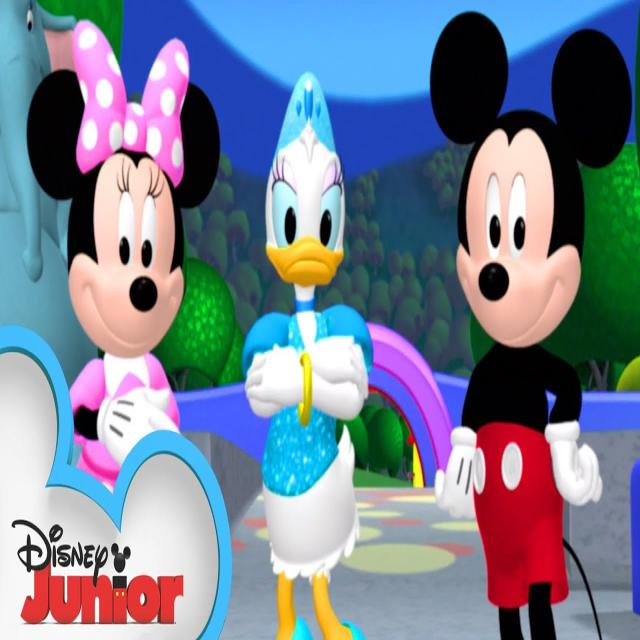mickey: (421, 5, 640, 640)
